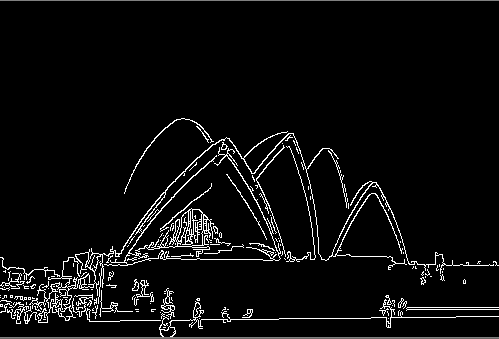opera house: (90, 106, 417, 265)
